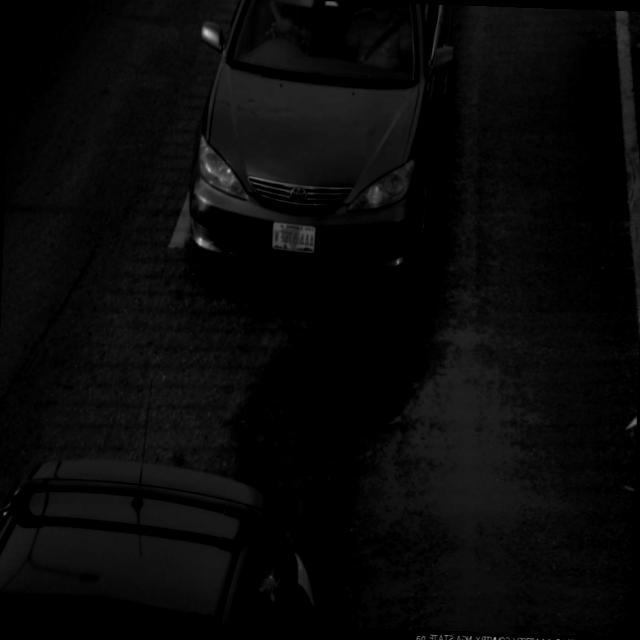windshield: (223, 1, 437, 98)
